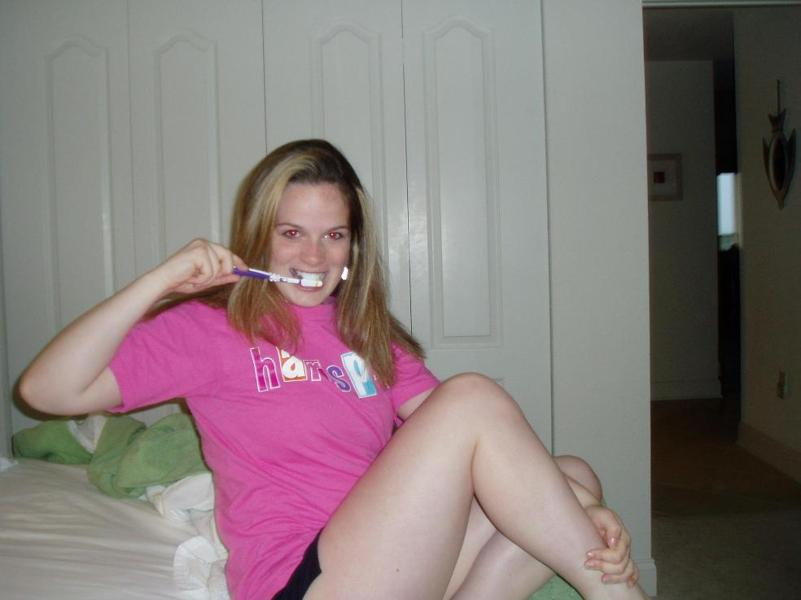person: (18, 138, 661, 600)
